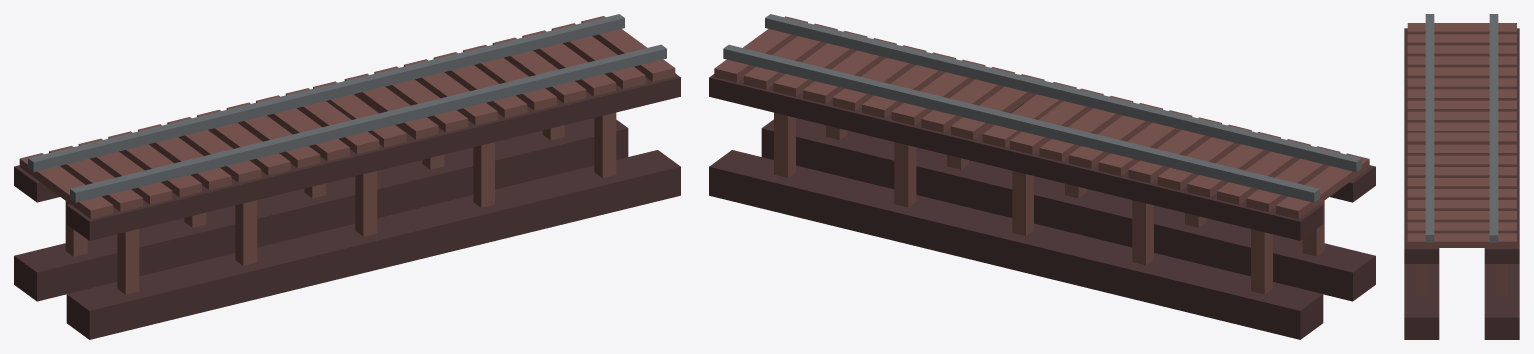
The model's file is DarkRoseWoodMechMedium0_96GaugeStraight1.fbx.
3 renders of one model, left to right at view 1: azimuth 30°, elevation 25°; view 2: azimuth 150°, elevation 25°; view 3: azimuth 270°, elevation 25°, orthographic. The views are drawn at different scales.
Visible parts, largest first — view 1: DarkRoseWoodMechMedium0_96GaugeStraight1; view 2: DarkRoseWoodMechMedium0_96GaugeStraight1; view 3: DarkRoseWoodMechMedium0_96GaugeStraight1.
Boxes of the visible parts, box(x1,y1,x2,y2) form: DarkRoseWoodMechMedium0_96GaugeStraight1: box(14, 14, 680, 339); DarkRoseWoodMechMedium0_96GaugeStraight1: box(709, 14, 1375, 339); DarkRoseWoodMechMedium0_96GaugeStraight1: box(1404, 14, 1519, 339).
Bounding box in the file's own units: 1000 × 221 × 221.
